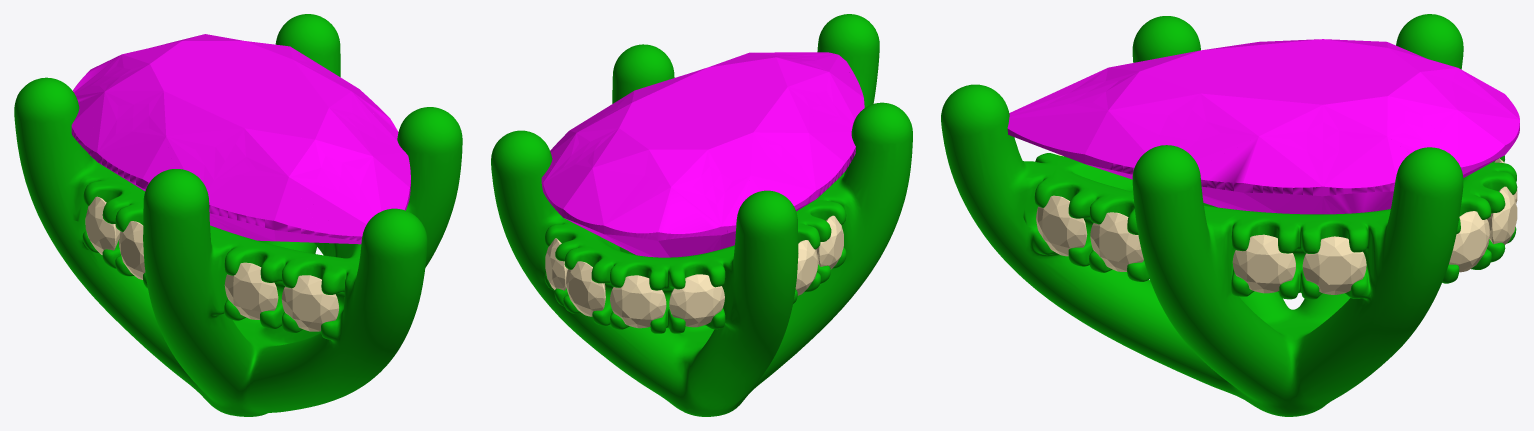
3 views of the same model, side by side, from view 1: azimuth 30°, elevation 25°; view 2: azimuth 150°, elevation 25°; view 3: azimuth 270°, elevation 25° (orthographic). The views are drawn at different scales.
Parts seen in each view (by area): view 1: Metal01, Diamond_Pear, Diamond_Round.008, Diamond_Round.007, Diamond_Round.001, Diamond_Round.002; view 2: Metal01, Diamond_Pear, Diamond_Round.004, Diamond_Round.003, Diamond_Round.005, Diamond_Round.001, Diamond_Round.002, Diamond_Round.006; view 3: Metal01, Diamond_Pear, Diamond_Round, Diamond_Round.011, Diamond_Round.009, Diamond_Round.010, Diamond_Round.006, Diamond_Round.005.
Boxes of the visible parts, x1=… form: Metal01: x1=14, y1=14, x2=462, y2=416; Diamond_Pear: x1=71, y1=34, x2=410, y2=244; Diamond_Round.008: x1=281, y1=275, x2=338, y2=331; Diamond_Round.007: x1=224, y1=262, x2=278, y2=319; Diamond_Round.001: x1=85, y1=196, x2=120, y2=254; Diamond_Round.002: x1=119, y1=221, x2=145, y2=279; Metal01: x1=491, y1=14, x2=912, y2=416; Diamond_Pear: x1=541, y1=52, x2=864, y2=257; Diamond_Round.004: x1=610, y1=275, x2=666, y2=328; Diamond_Round.003: x1=669, y1=274, x2=724, y2=327; Diamond_Round.005: x1=565, y1=261, x2=605, y2=316; Diamond_Round.001: x1=795, y1=240, x2=818, y2=295; Diamond_Round.002: x1=816, y1=215, x2=843, y2=269; Diamond_Round.006: x1=545, y1=238, x2=567, y2=290; Metal01: x1=941, y1=14, x2=1517, y2=416; Diamond_Pear: x1=1007, y1=39, x2=1519, y2=214; Diamond_Round: x1=1302, y1=236, x2=1366, y2=294; Diamond_Round.011: x1=1232, y1=234, x2=1295, y2=293; Diamond_Round.009: x1=1090, y1=212, x2=1143, y2=271; Diamond_Round.010: x1=1036, y1=195, x2=1087, y2=256; Diamond_Round.006: x1=1449, y1=211, x2=1490, y2=272; Diamond_Round.005: x1=1487, y1=186, x2=1517, y2=244.
Size of the model in its own units: 6 by 5.8 by 9.06.
